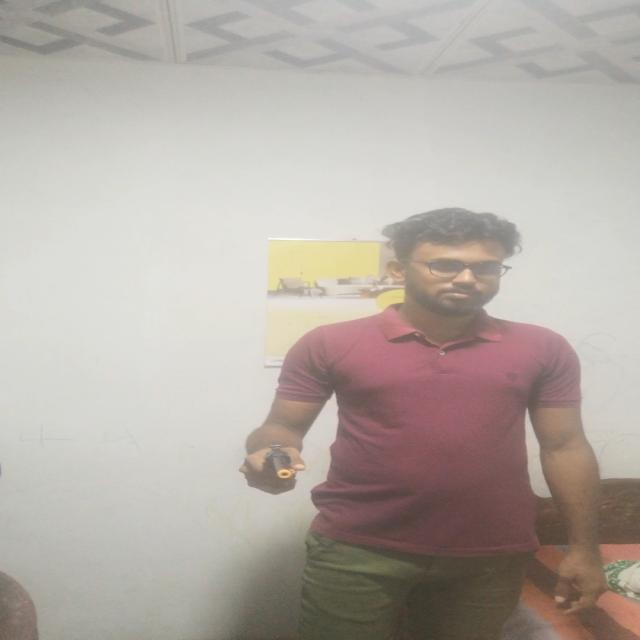Gun_Holder: (237, 437, 327, 498)
Person: (225, 214, 612, 640)
